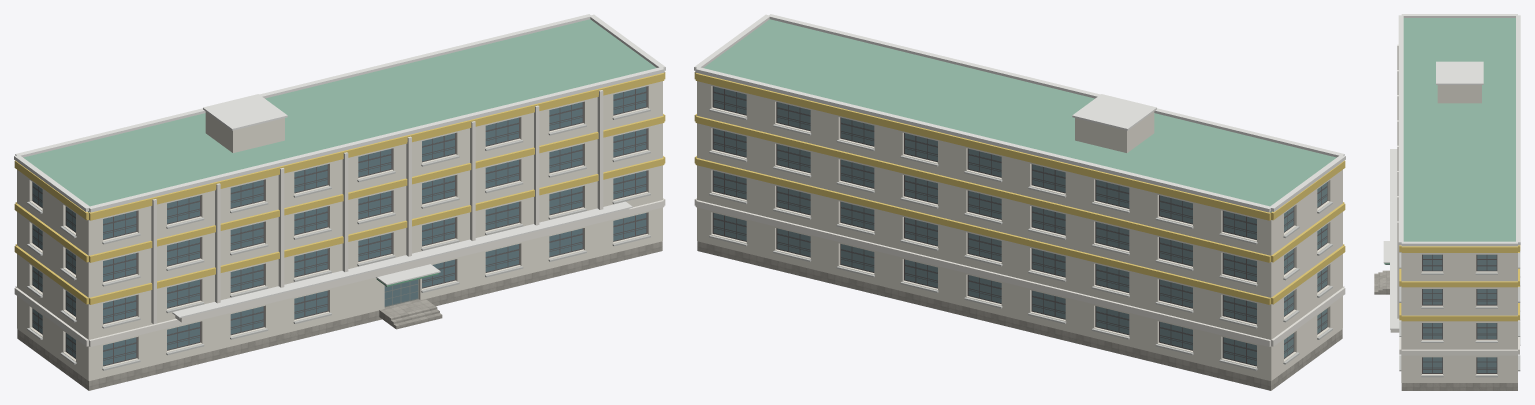
3 renders of one model, left to right at view 1: azimuth 30°, elevation 25°; view 2: azimuth 150°, elevation 25°; view 3: azimuth 270°, elevation 25°, orthographic. The views are drawn at different scales.
Parts seen in each view (by area): view 1: library-wing__panel, library-wing__roof, library-wing__glass, library-wing__ochre, library-wing__cap, library-wing__band, library-wing__darkframe, library-wing__stone, library-wing__sill, library-wing__sideglass, library-wing__stair-front, library-wing__threshold-front; view 2: library-wing__panel, library-wing__roof, library-wing__sideglass, library-wing__ochre, library-wing__darkframe, library-wing__cap, library-wing__stone, library-wing__band, library-wing__sill; view 3: library-wing__roof, library-wing__panel, library-wing__cap, library-wing__ochre, library-wing__sideglass, library-wing__band, library-wing__darkframe, library-wing__stone, library-wing__sill, library-wing__stair-front.
Part boxes in pixels (<box>): library-wing__panel: <box>17,81,662,380</box>; library-wing__roof: <box>23,19,656,212</box>; library-wing__glass: <box>103,86,646,365</box>; library-wing__ochre: <box>14,72,665,304</box>; library-wing__cap: <box>14,14,665,318</box>; library-wing__band: <box>14,90,665,346</box>; library-wing__darkframe: <box>32,86,647,366</box>; library-wing__stone: <box>17,241,662,390</box>; library-wing__sill: <box>27,108,650,370</box>; library-wing__sideglass: <box>32,182,75,357</box>; library-wing__stair-front: <box>388,305,442,329</box>; library-wing__threshold-front: <box>379,299,434,323</box>; library-wing__panel: <box>697,81,1342,380</box>; library-wing__roof: <box>703,19,1336,212</box>; library-wing__sideglass: <box>713,86,1327,365</box>; library-wing__ochre: <box>694,72,1345,304</box>; library-wing__darkframe: <box>712,86,1327,366</box>; library-wing__cap: <box>694,14,1345,212</box>; library-wing__stone: <box>697,241,1342,390</box>; library-wing__band: <box>694,198,1345,346</box>; library-wing__sill: <box>709,108,1332,370</box>; library-wing__roof: <box>1403,18,1515,241</box>; library-wing__panel: <box>1401,85,1517,382</box>; library-wing__cap: <box>1383,14,1520,329</box>; library-wing__ochre: <box>1399,245,1520,321</box>; library-wing__sideglass: <box>1423,254,1496,372</box>; library-wing__band: <box>1390,44,1519,355</box>; library-wing__darkframe: <box>1422,254,1497,373</box>; library-wing__stone: <box>1401,383,1517,390</box>; library-wing__sill: <box>1399,251,1520,377</box>; library-wing__stair-front: <box>1374,270,1386,294</box>.
Size of the model in its own units: 49.02 by 16.66 by 13.23.
14 materials, 1 textured.
